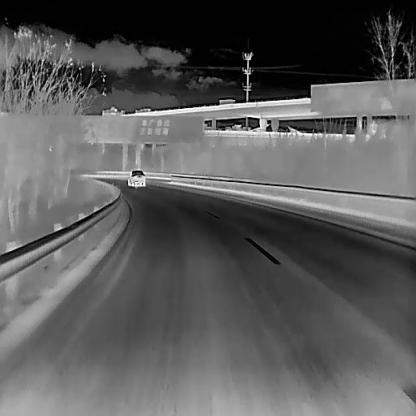car: (128, 170, 146, 186)
